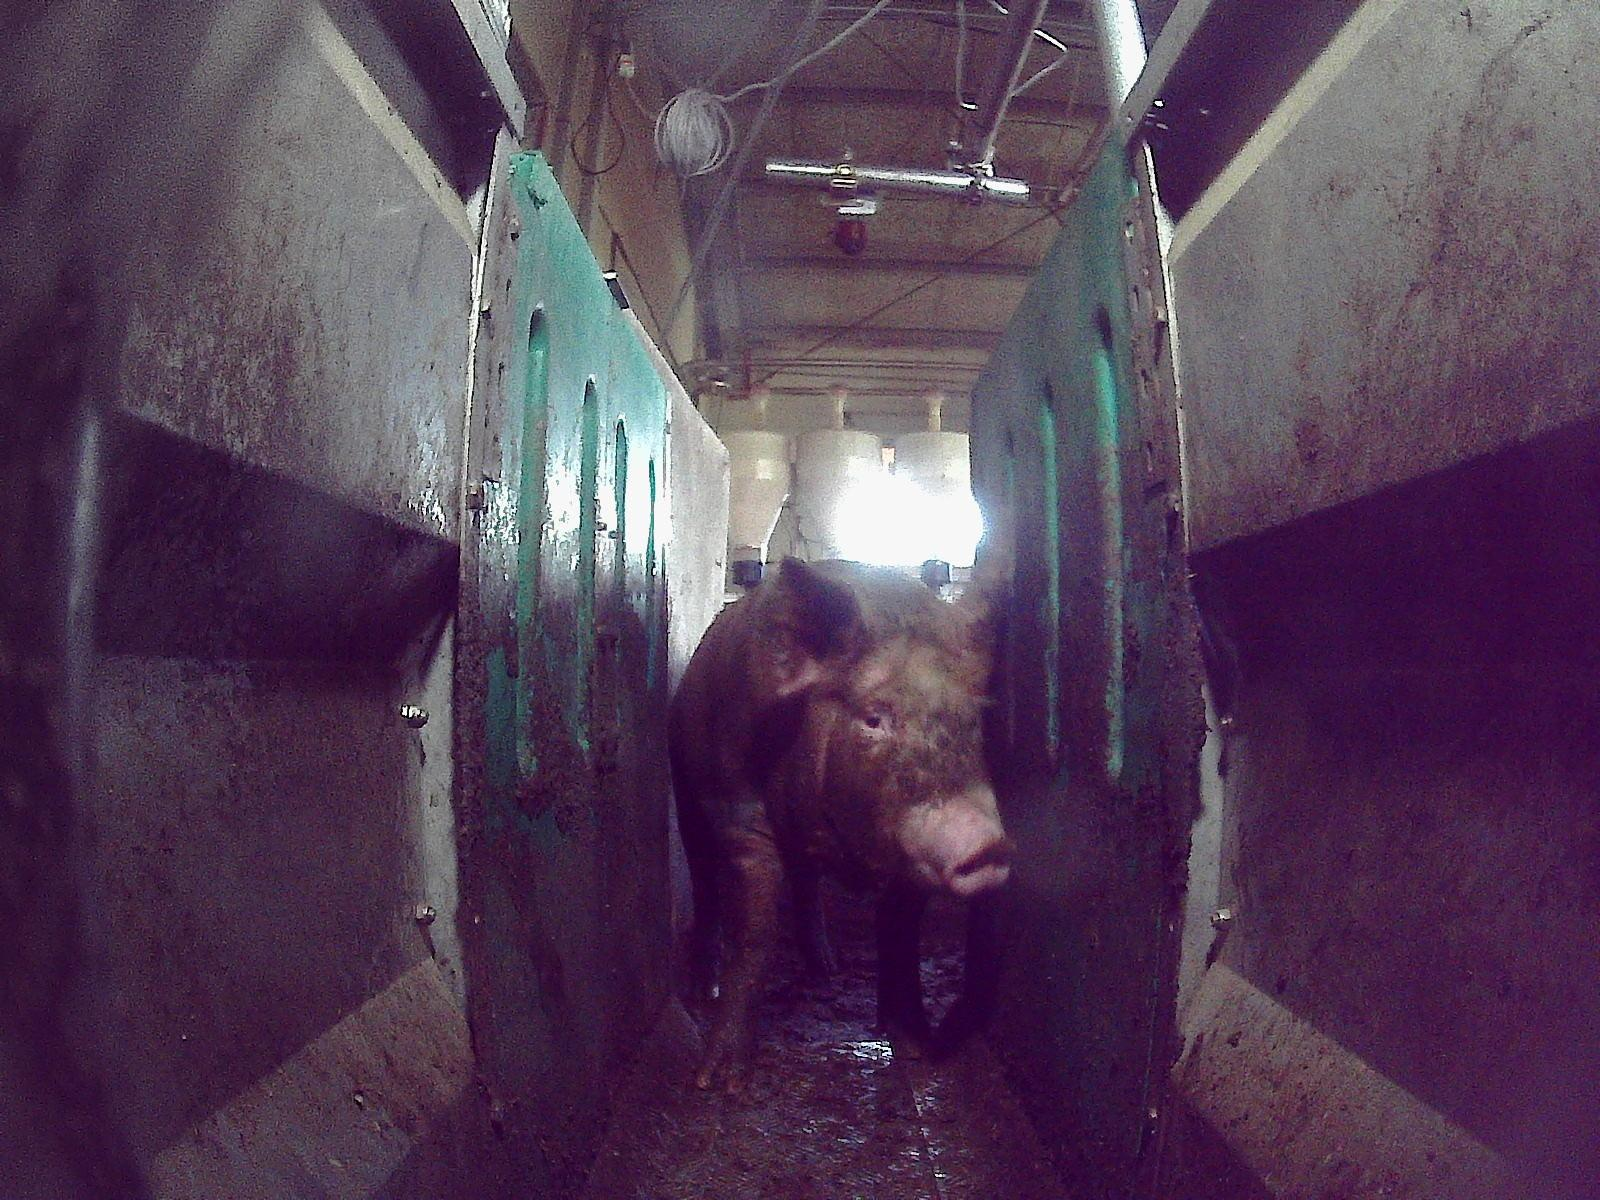Face: (773, 625, 1016, 898)
